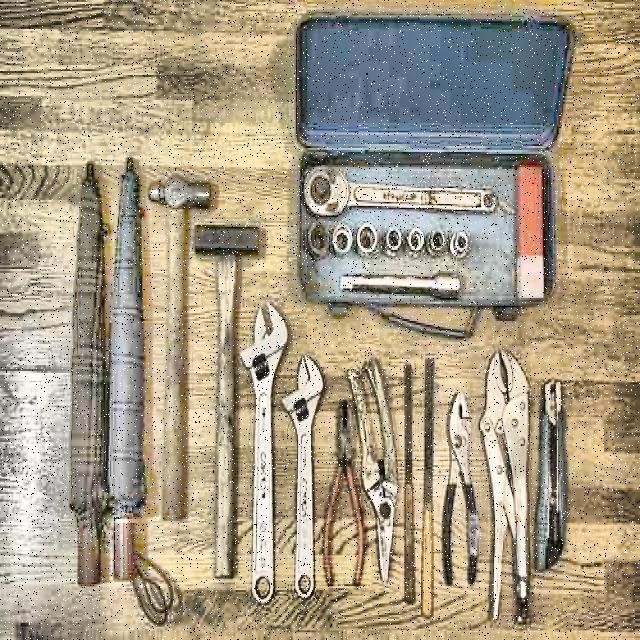hammer: (195, 217, 259, 575), (148, 170, 212, 518)
